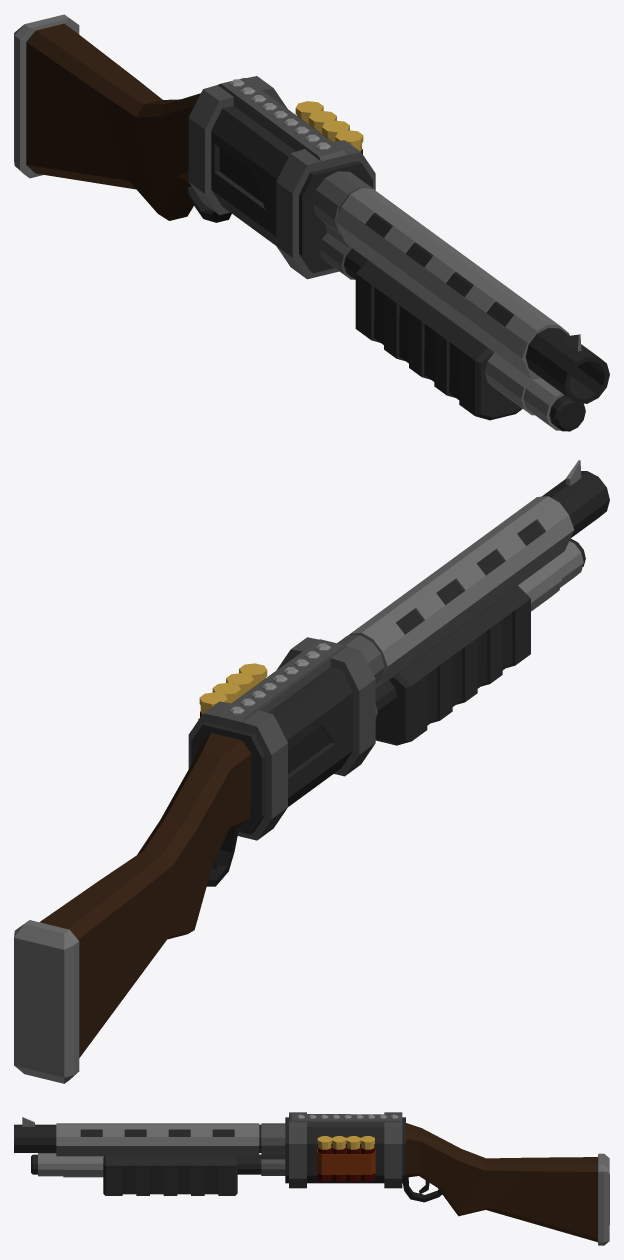
File: low_poly_shotgun_-_game_ready.glb
3 renders of one model, top to bottom at view 1: azimuth 30°, elevation 25°; view 2: azimuth 150°, elevation 25°; view 3: azimuth 270°, elevation 25°, orthographic. The views are drawn at different scales.
Parts seen in each view (by area): view 1: Cylinder.009; view 2: Cylinder.009; view 3: Cylinder.009.
Part boxes in pixels (<box>): Cylinder.009: <box>14,14,609,431</box>; Cylinder.009: <box>14,460,609,1083</box>; Cylinder.009: <box>14,1112,609,1245</box>.
Bounding box in the file's own units: 1.71 × 3.67 × 15.9.
1 material, 1 textured.
